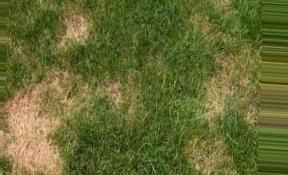patch: (15, 102, 53, 172), (44, 80, 127, 104), (217, 57, 232, 113), (194, 144, 222, 167), (70, 18, 84, 35)
